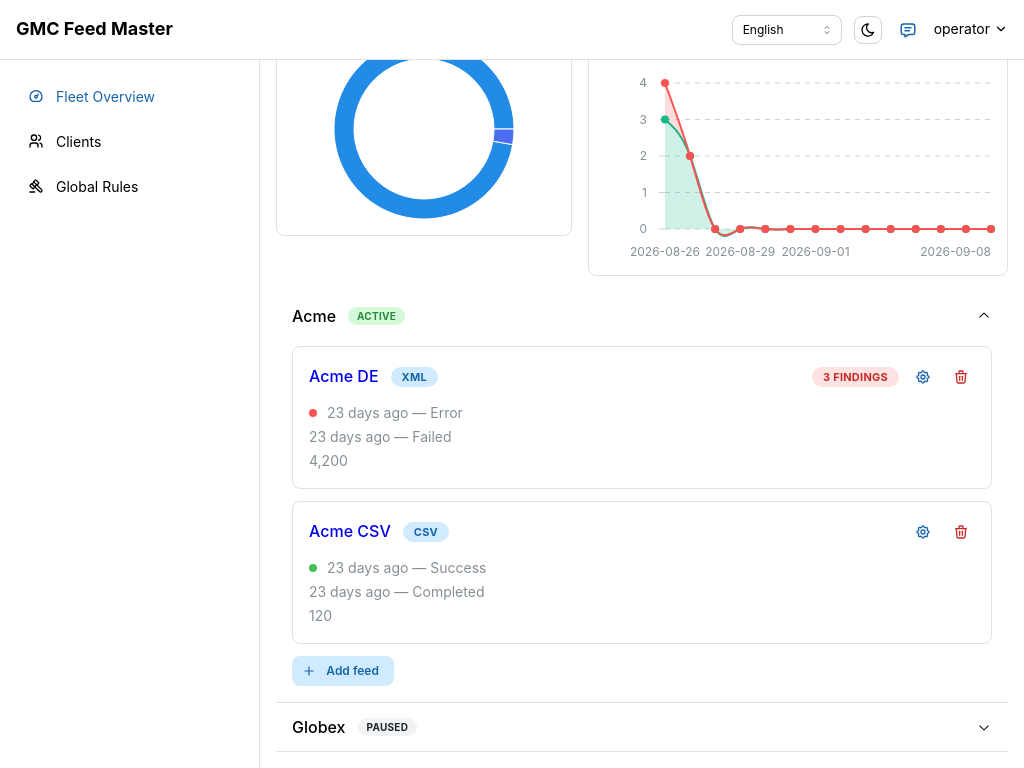
Test: DashboardPage › shows a generic error notification when feed creation fails
(page scrolled)
Click the button "Add feed" at (343, 671), box [292,656,394,686]
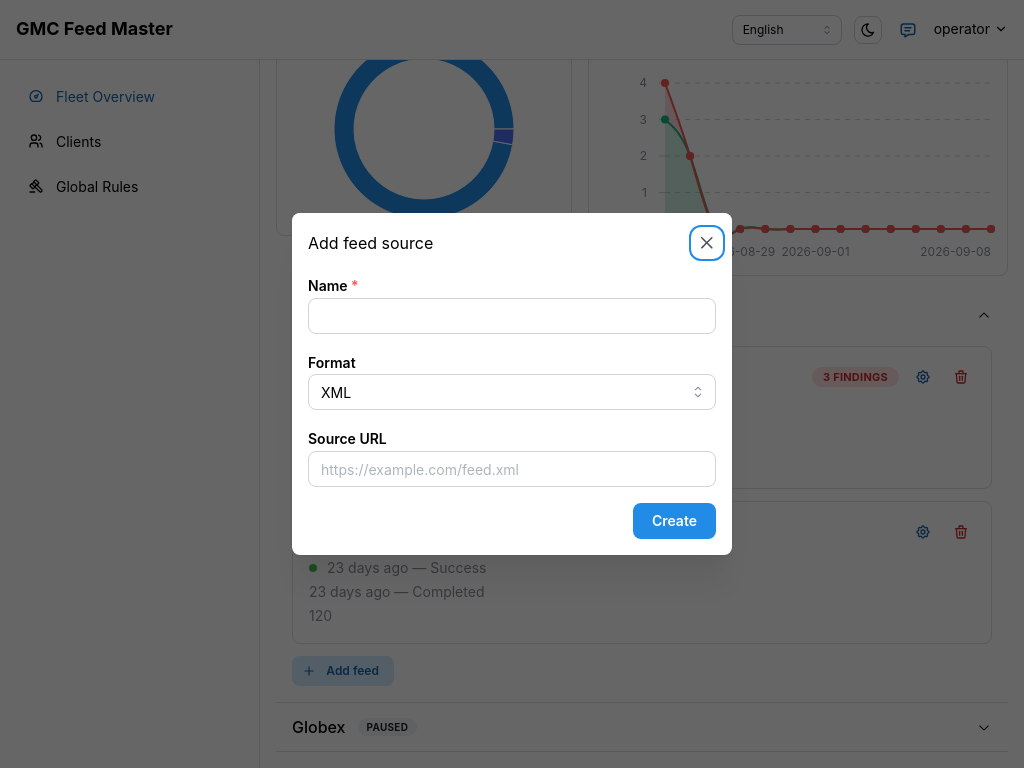
Type "Broken Feed" into the field labelled "Name *" at (512, 316), box [308,298,716,334]
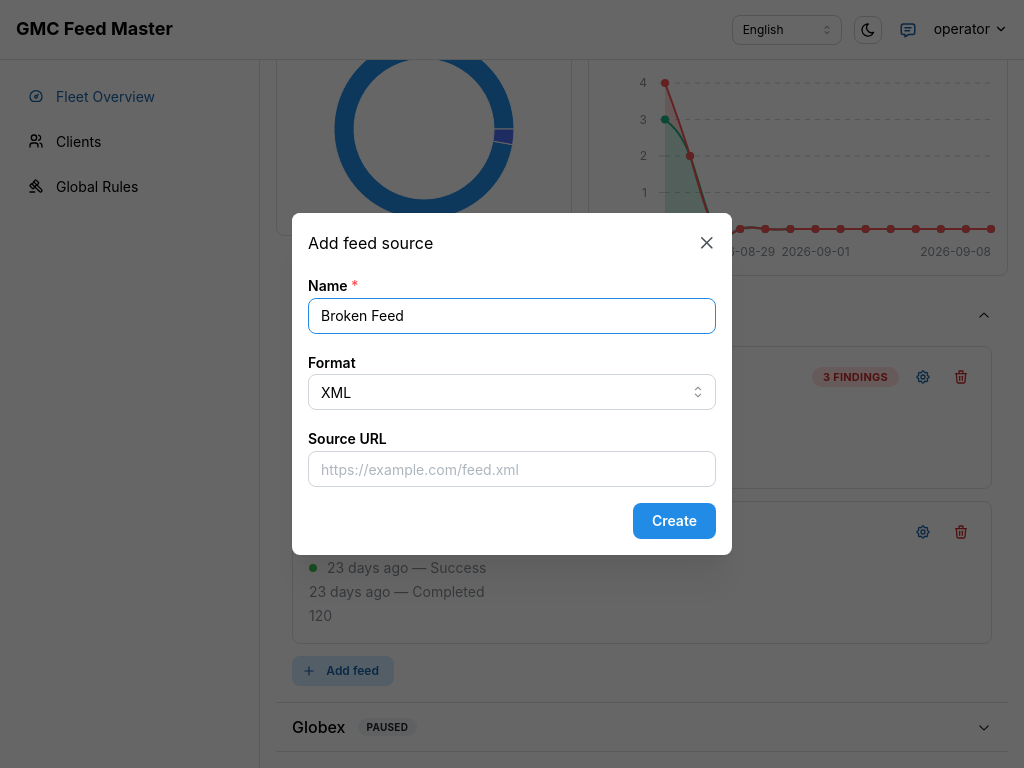
Click the button "Create" at (674, 521), box [633,503,716,539]
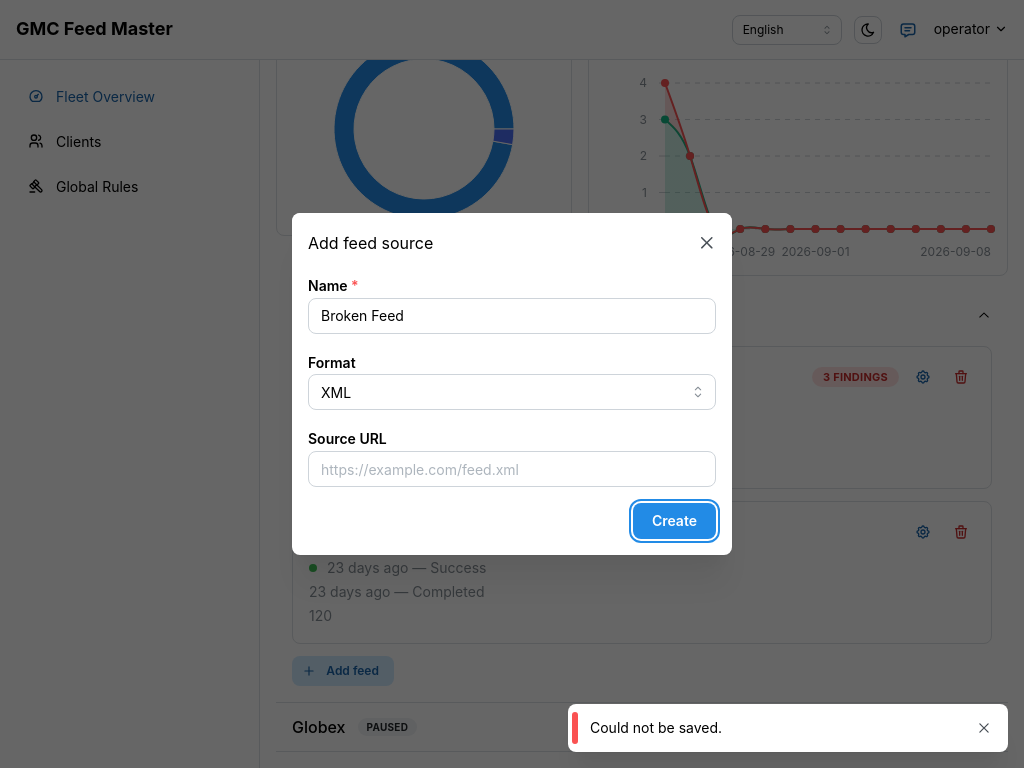
Expected: the text "Could not be saved." is shown, [590,719,722,736]
